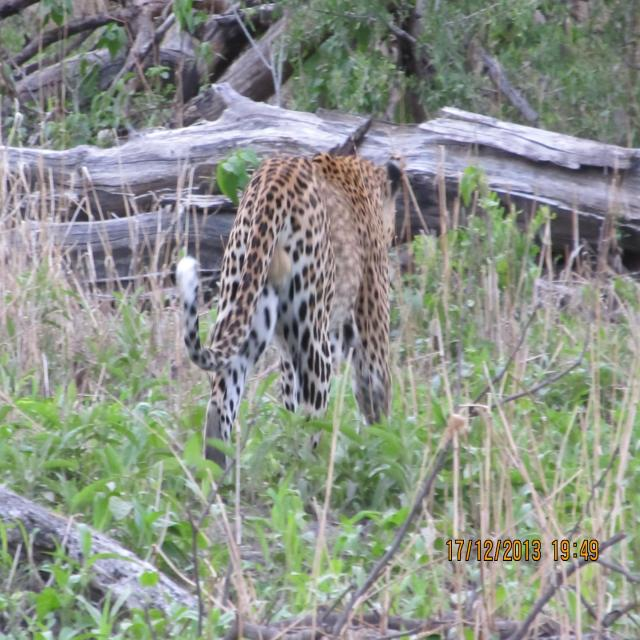Leopard: (192, 144, 414, 457)
